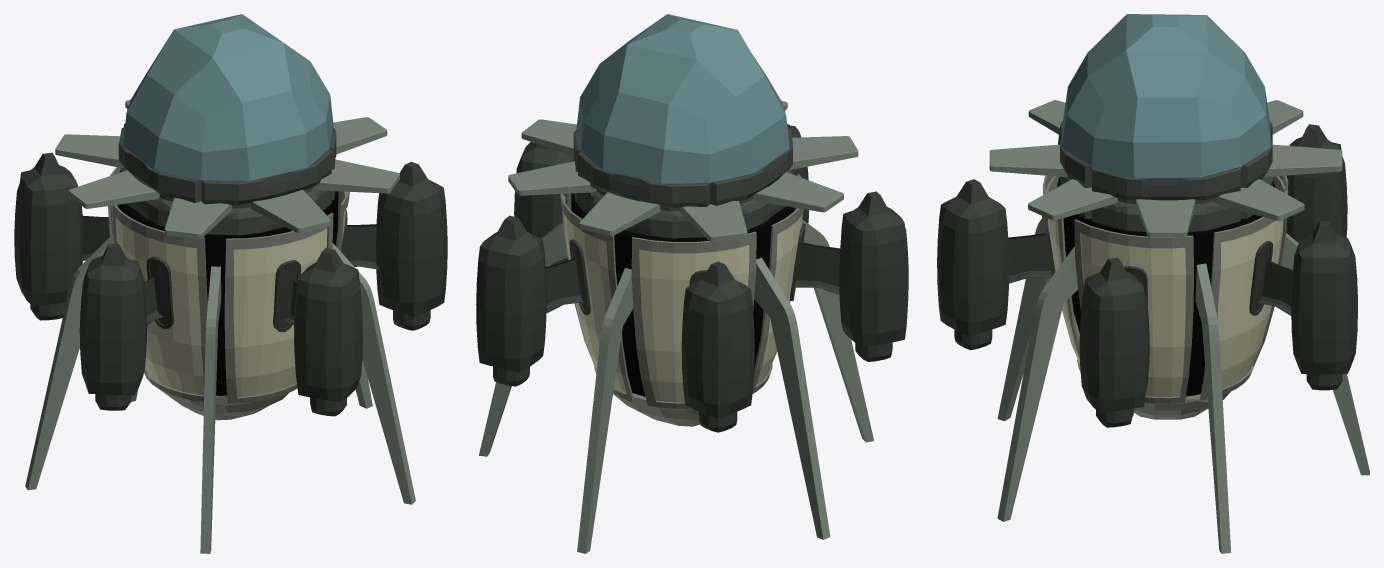
The model's file is TIMEMACHINE.fbx.
The picture shows the model from 3 angles, left to right: view 1: azimuth 30°, elevation 25°; view 2: azimuth 150°, elevation 25°; view 3: azimuth 270°, elevation 25°; orthographic projection.
Parts seen in each view (by area): view 1: cristal, basepared.001, cohetes.005, cohetes.002, cohetes.003, cohetes.001, rulo, basepared, Cube.004, Cube.003, Cube.001, Base (+7 smaller); view 2: cristal, basepared.001, cohetes.004, cohetes.002, cohetes.001, rulo, basepared, Cube.004, Cube.005, Base, Cube.001, cohetes.005 (+8 smaller); view 3: cristal, basepared.001, cohetes.003, cohetes.004, cohetes.005, rulo, basepared, Cube.003, Cube.002, cohetes.001, Base, Cube.001 (+9 smaller).
Boxes of the visible parts, box(x1,y1,x2,y2) form: cristal: box(123, 14, 333, 180); basepared.001: box(117, 209, 345, 397); cohetes.005: box(341, 161, 447, 330); cohetes.002: box(79, 243, 174, 410); cohetes.003: box(273, 248, 362, 416); cohetes.001: box(14, 152, 109, 320); rulo: box(118, 124, 336, 235); basepared: box(108, 167, 349, 403); Cube.004: box(25, 233, 113, 490); Cube.003: box(332, 243, 415, 504); Cube.001: box(200, 266, 221, 553); Base: box(117, 191, 338, 395); cristal: box(576, 14, 789, 183); basepared.001: box(564, 214, 802, 402); cohetes.004: box(476, 215, 590, 386); cohetes.002: box(790, 191, 908, 361); cohetes.001: box(681, 261, 754, 432); rulo: box(573, 125, 792, 238); basepared: box(560, 174, 804, 408); Cube.004: box(754, 257, 830, 539); Cube.005: box(577, 267, 633, 553); Base: box(571, 193, 794, 396); Cube.001: box(802, 219, 873, 442); cohetes.005: box(514, 142, 574, 265); cristal: box(1061, 14, 1271, 178); basepared.001: box(1047, 218, 1283, 396); cohetes.003: box(937, 179, 1055, 349); cohetes.004: box(1249, 221, 1357, 390); cohetes.005: box(1079, 257, 1149, 427); rulo: box(1060, 120, 1272, 231); basepared: box(1042, 175, 1288, 403); Cube.003: box(997, 246, 1077, 521); Cube.002: box(1195, 263, 1231, 553); cohetes.001: box(1286, 124, 1347, 242); Base: box(1056, 177, 1275, 396); Cube.001: box(997, 218, 1050, 420).
Size of the model in its own units: 578 by 666 by 579.
